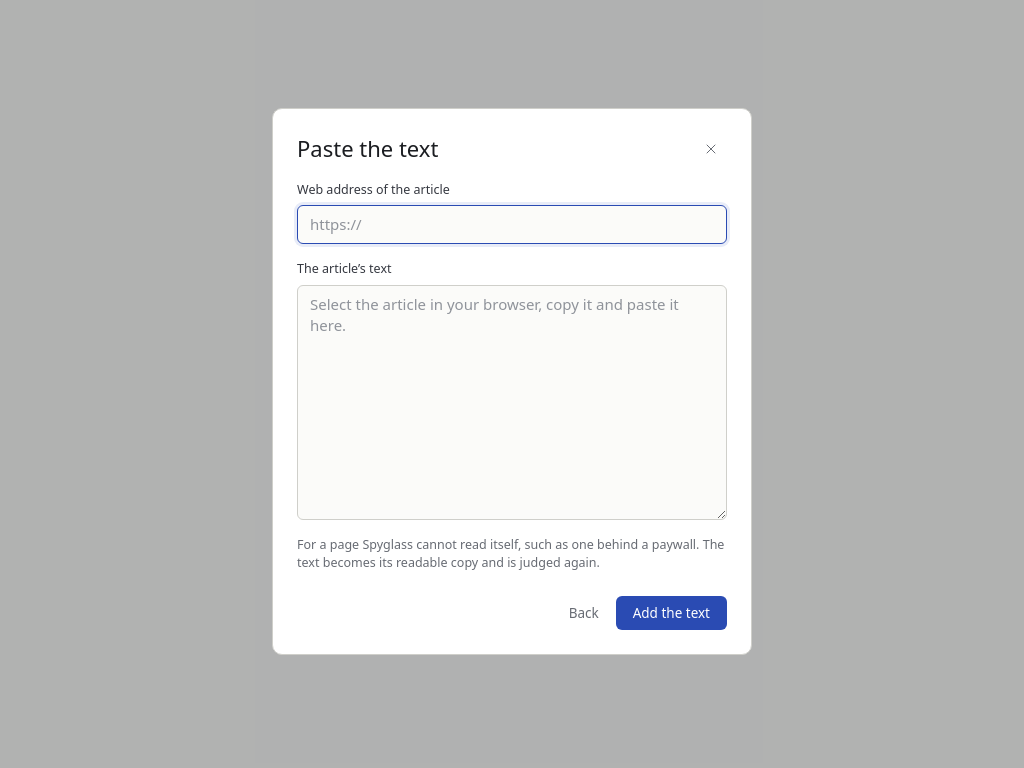
Scenario: PasteTextDialog › shows the service refusal
In the field labelled "Web address of the article": (512, 224) [297, 205, 727, 244], type "https://news.example.com/story"
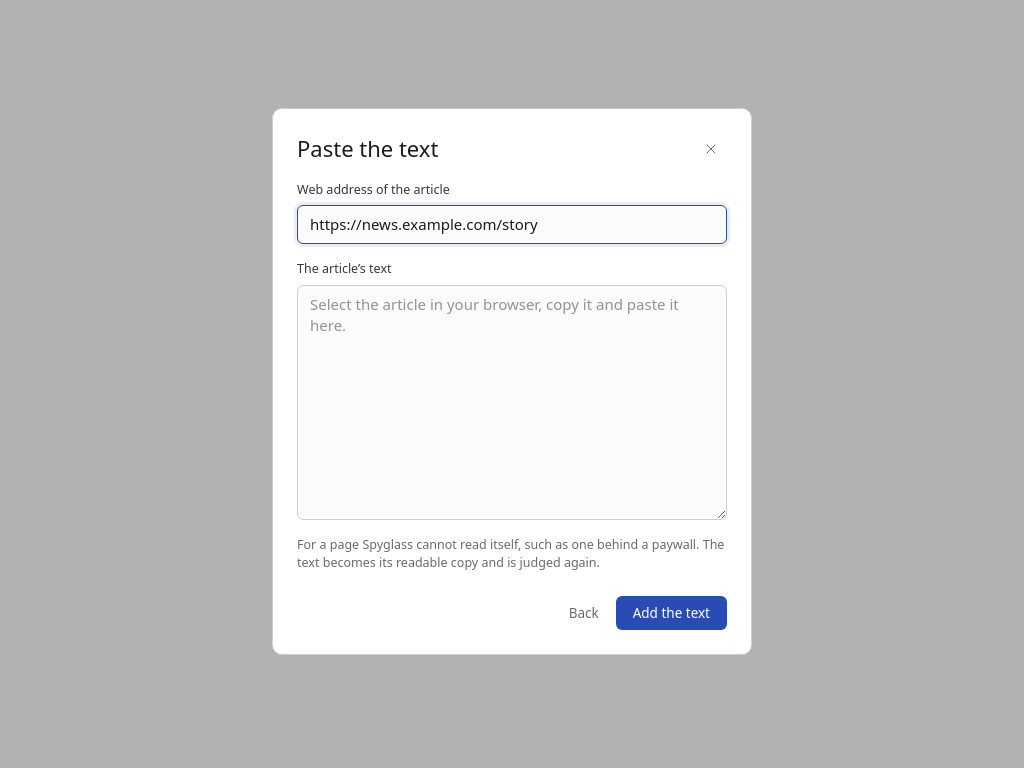
Replace the text in the text box labelled "The article’s text" with "Text": (512, 402) [297, 284, 727, 520]
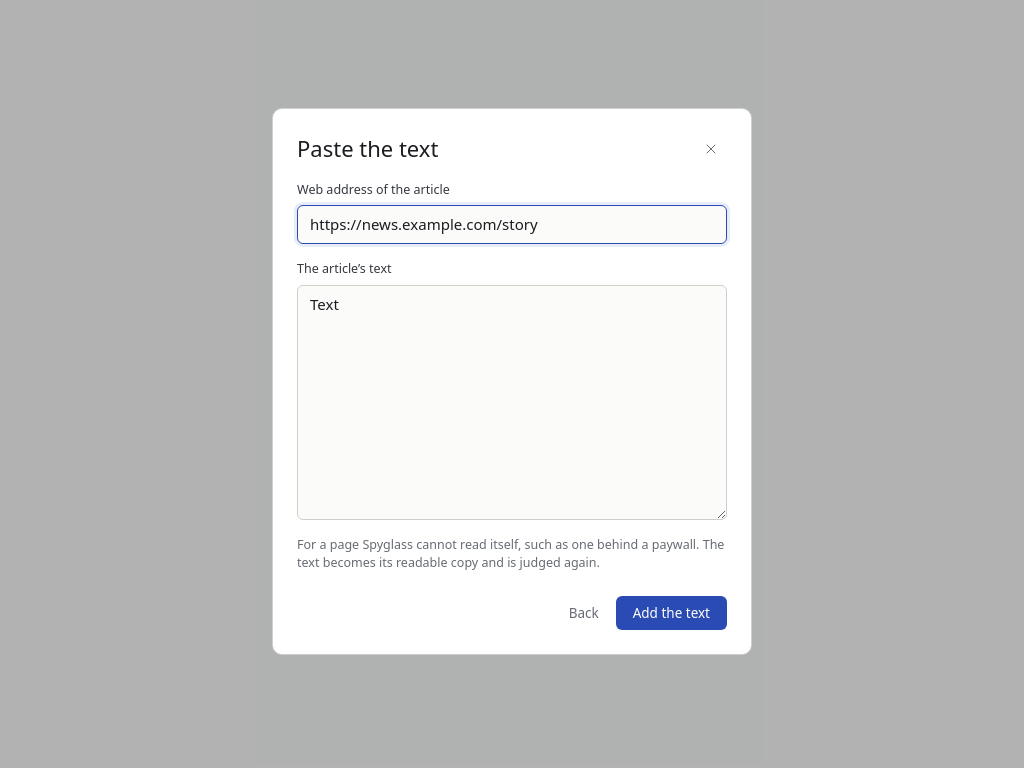
Click the button "Add the text": (671, 613) [616, 596, 727, 630]
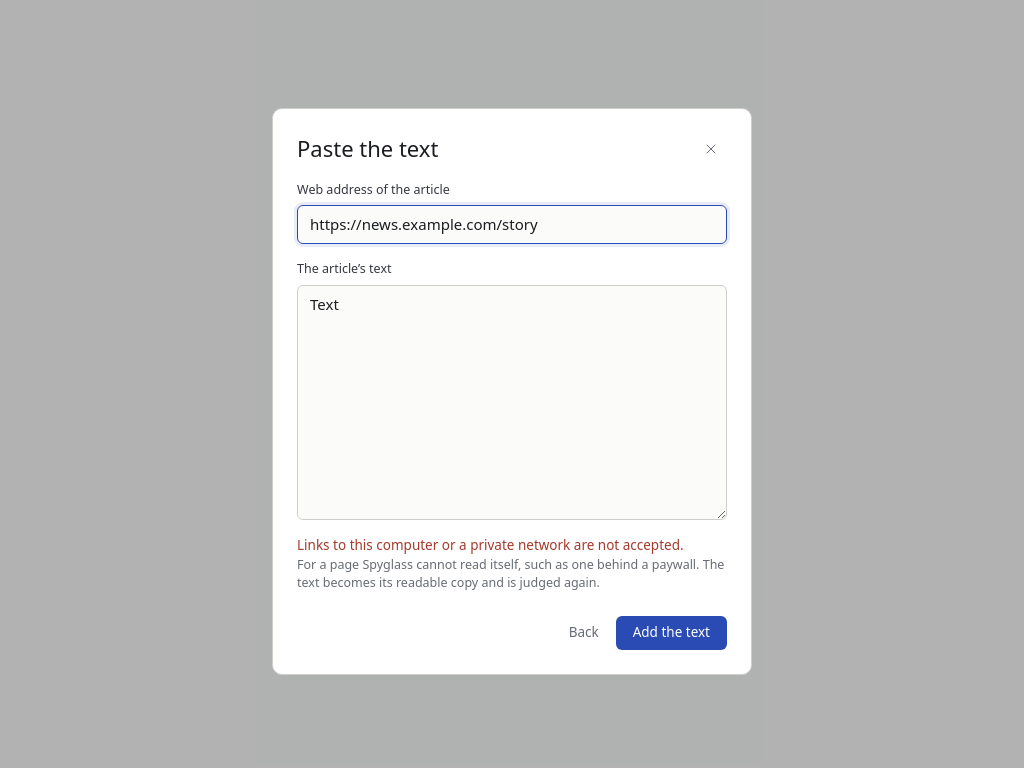
Expected: the message shows "private network", [297, 536, 684, 554]
